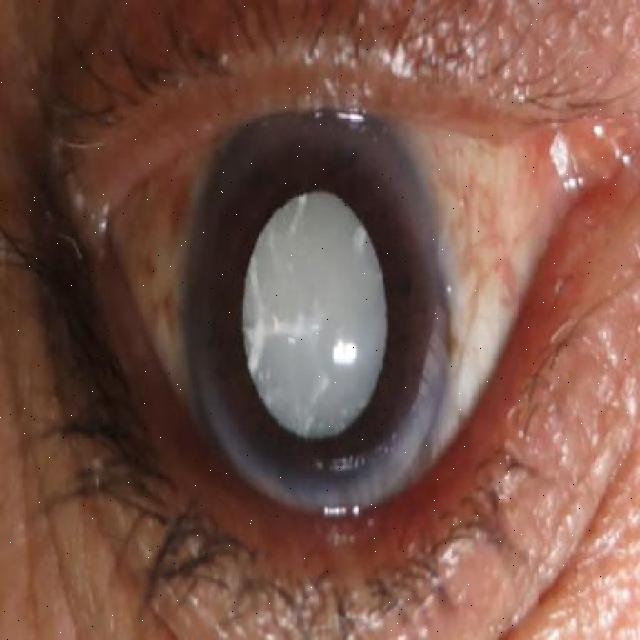Cataract: (184, 92, 455, 520)
